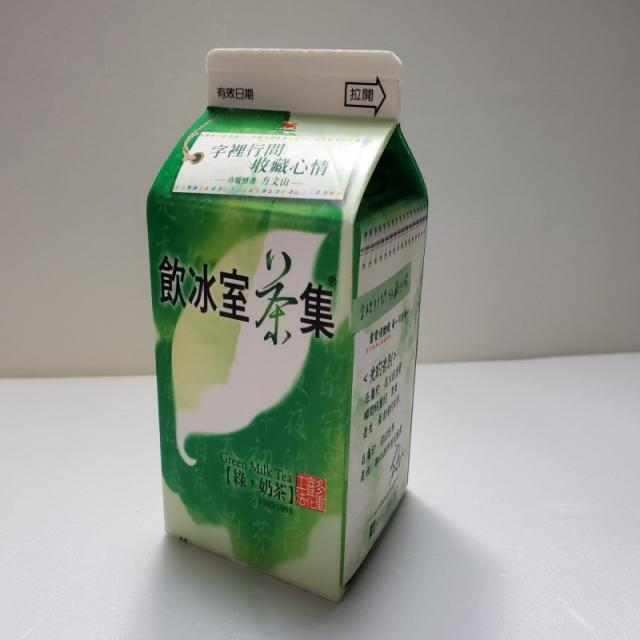non_white_jug: (139, 36, 450, 602)
